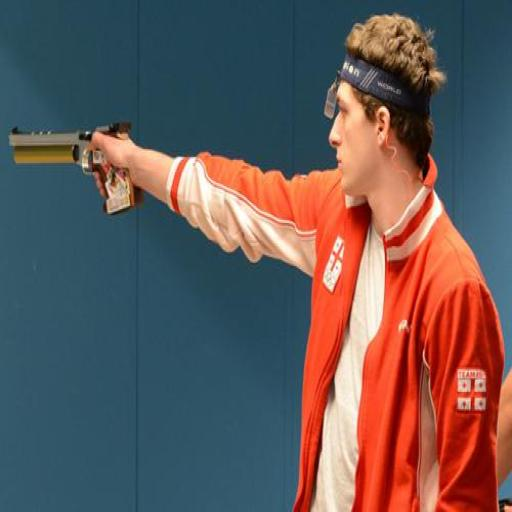shooting: (85, 11, 507, 510)
